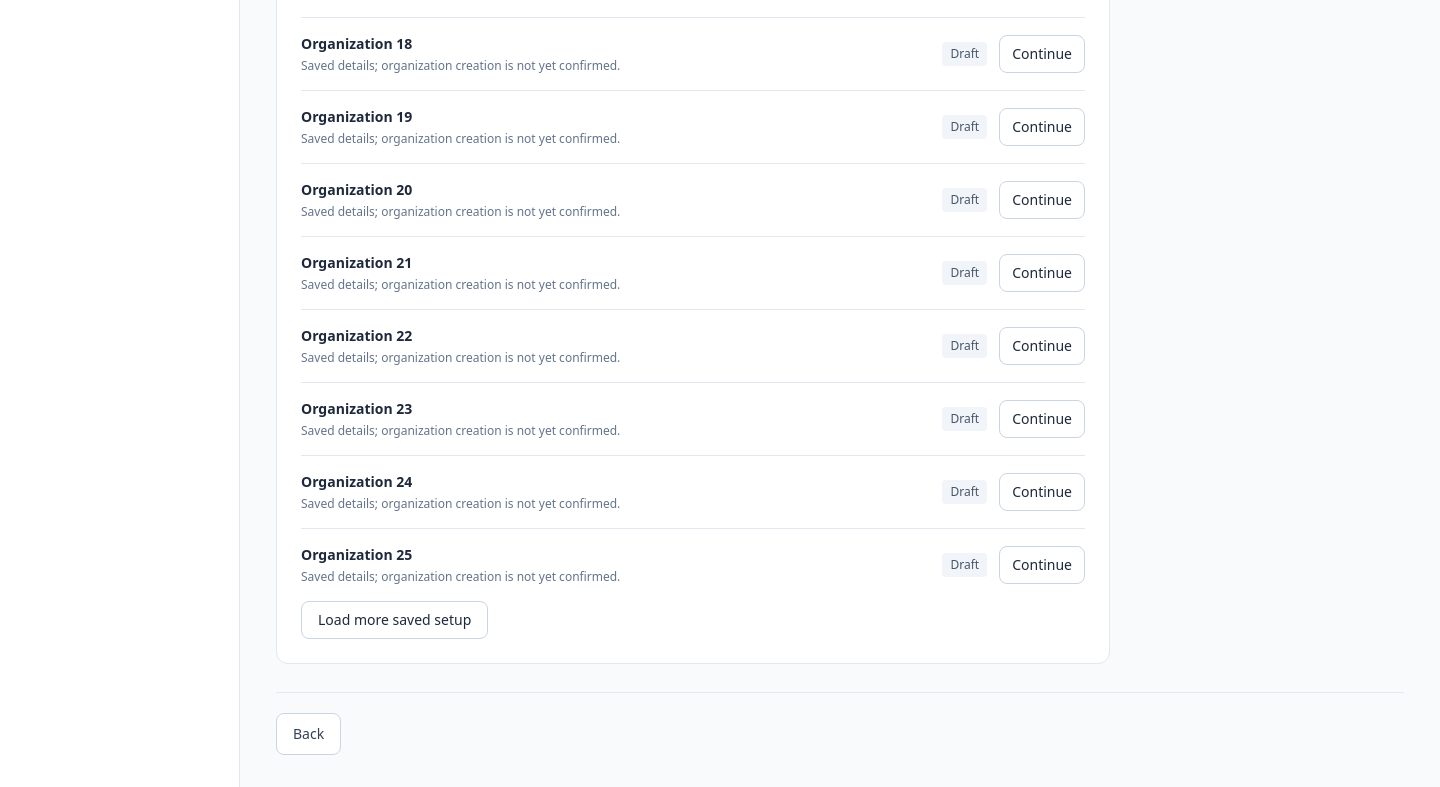
it: setup entry canonical readers › loads subsequent organization pages without duplicating the provider record
(page scrolled)
Click the button "Load more saved setup".
click(395, 620)  # box [301, 601, 488, 639]
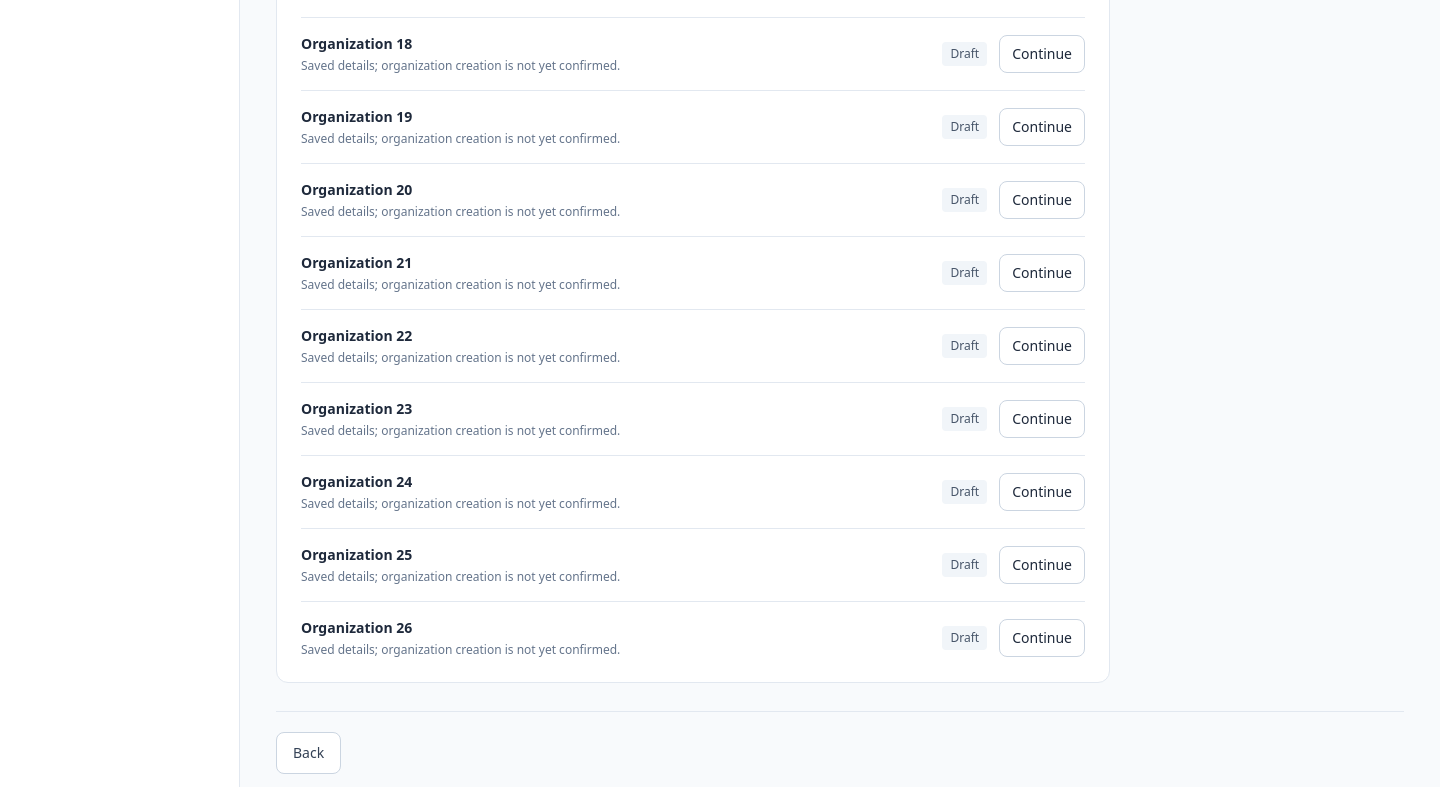
Expected: the link with aria-label "Continue Organization 26" is shown, [999, 619, 1085, 657]
Expected: the button "Load more saved setup" is gone
